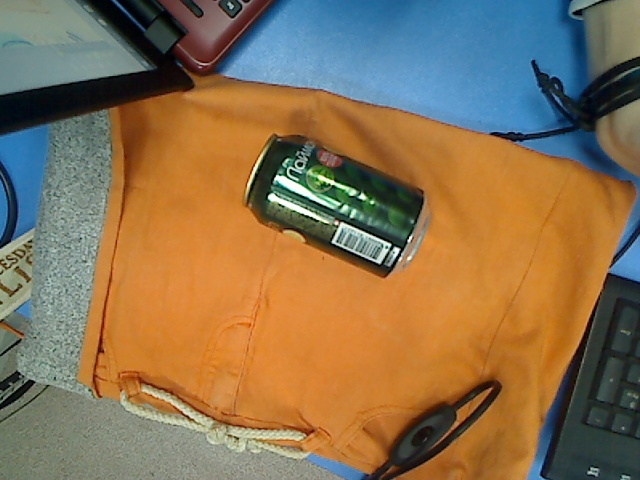can: (241, 134, 433, 282)
